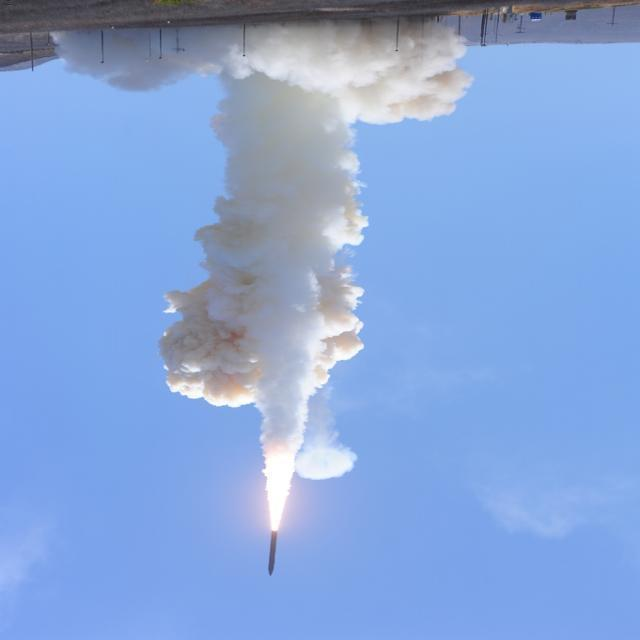missile: (263, 527, 284, 583)
